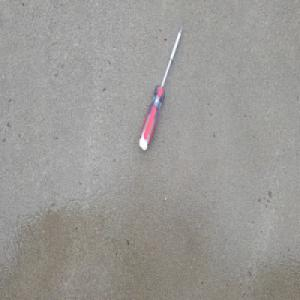Screwdriver: (138, 24, 184, 153)
